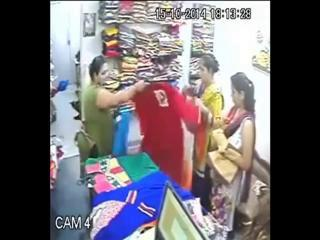Normal: (136, 52, 214, 192), (206, 71, 256, 236), (80, 55, 150, 158), (153, 181, 210, 240)
